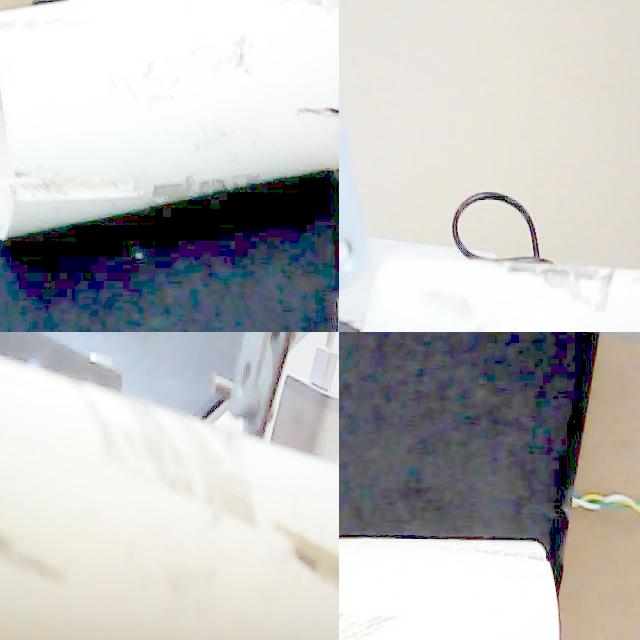Defective: (77, 397, 288, 540), (176, 485, 339, 640), (0, 473, 103, 640), (505, 262, 625, 326), (144, 168, 287, 210), (416, 537, 549, 577), (1, 166, 160, 198), (295, 63, 339, 141), (0, 18, 66, 66), (339, 611, 410, 640), (261, 0, 339, 26)
T Joint: (0, 355, 339, 640), (359, 238, 640, 332), (339, 540, 561, 640)
